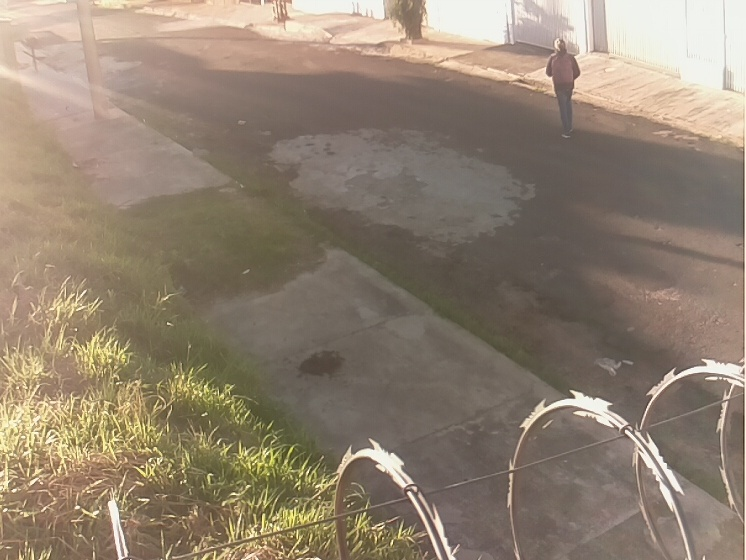person: (546, 38, 581, 138)
